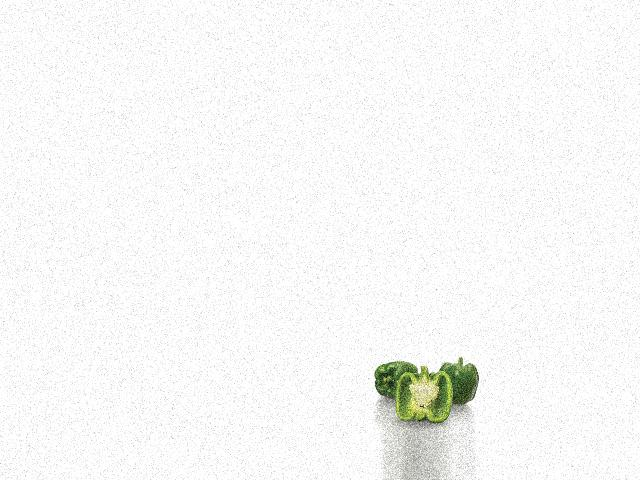bell_pepper: (370, 357, 422, 403)
